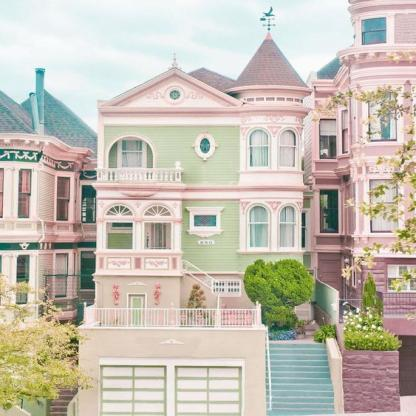Balcony: (84, 308, 264, 347), (96, 249, 181, 272), (96, 168, 183, 184)
Building Outline: (77, 5, 344, 416)
Cornice: (185, 207, 225, 211)
Deco: (266, 201, 283, 213), (266, 126, 283, 137), (154, 283, 162, 305), (113, 283, 121, 305), (159, 338, 185, 344), (240, 126, 250, 141), (240, 201, 250, 215), (296, 201, 303, 215), (296, 126, 303, 140), (126, 281, 149, 285), (197, 241, 215, 246)
Door: (100, 366, 167, 416), (174, 366, 241, 416), (117, 138, 147, 185), (145, 222, 171, 267), (129, 295, 145, 327)
Facade: (77, 5, 343, 416)
Molding: (115, 76, 233, 107), (95, 187, 305, 192), (103, 113, 306, 118)
Roof: (187, 39, 310, 92)
Sill: (185, 230, 224, 238), (236, 251, 305, 255), (236, 171, 306, 174)
Window: (109, 136, 153, 184), (249, 206, 267, 247), (145, 222, 171, 249), (279, 206, 296, 247), (107, 223, 133, 249), (250, 130, 268, 167), (279, 130, 296, 167), (294, 214, 306, 248), (214, 281, 240, 292), (143, 206, 171, 216), (106, 205, 134, 215), (195, 216, 217, 227), (112, 216, 132, 227)
